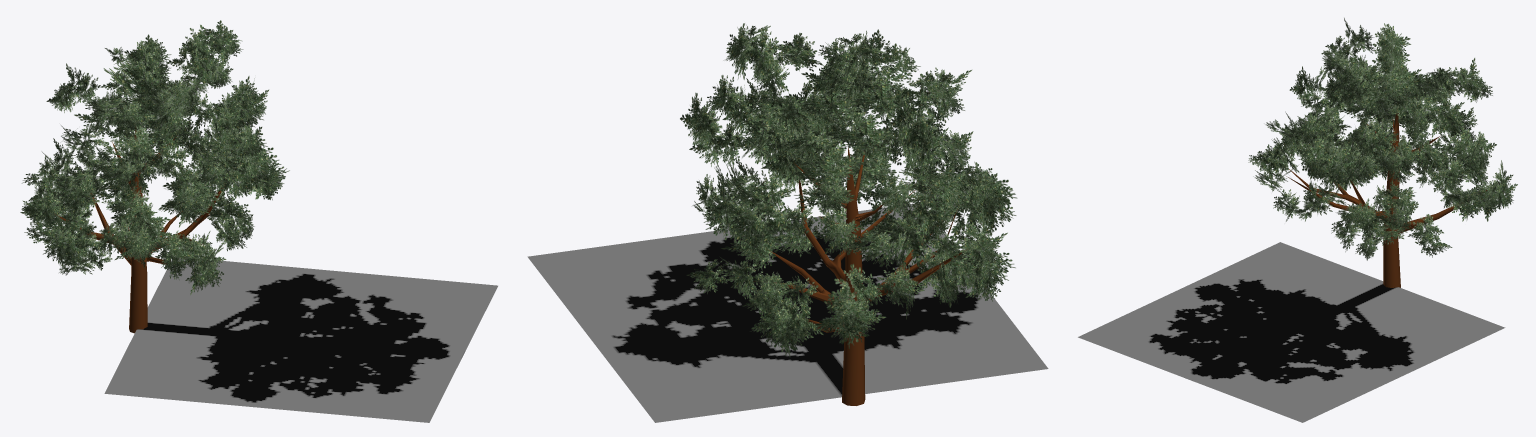
File: tree_berm.glb
3 views of the same model, side by side, from view 1: azimuth 30°, elevation 25°; view 2: azimuth 150°, elevation 25°; view 3: azimuth 270°, elevation 25° (orthographic). The views are drawn at different scales.
Visible parts, largest first — view 1: leaves; view 2: leaves; view 3: leaves.
Part boxes in pixels (<box>): leaves: <box>20,20,497,422</box>; leaves: <box>527,23,1048,422</box>; leaves: <box>1078,18,1517,422</box>.
Bounding box in the file's own units: 21.23 × 13.85 × 20.51.
Materials: 3 (2 with a texture image).
